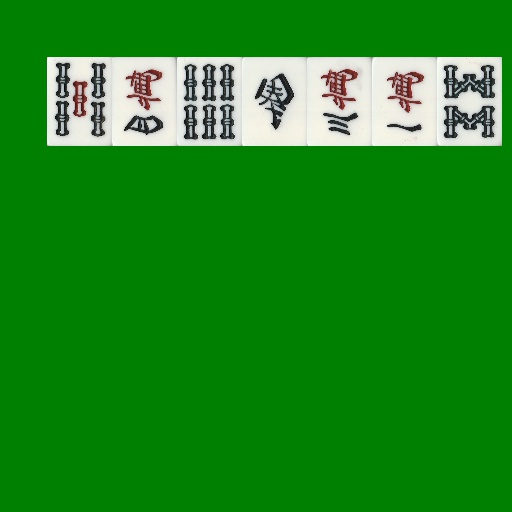1m: (372, 57, 437, 146)
3m: (307, 57, 372, 146)
4m: (112, 57, 177, 146)
5s: (47, 57, 112, 146)
6s: (177, 57, 242, 146)
8s: (437, 57, 502, 146)
south: (242, 57, 307, 146)
